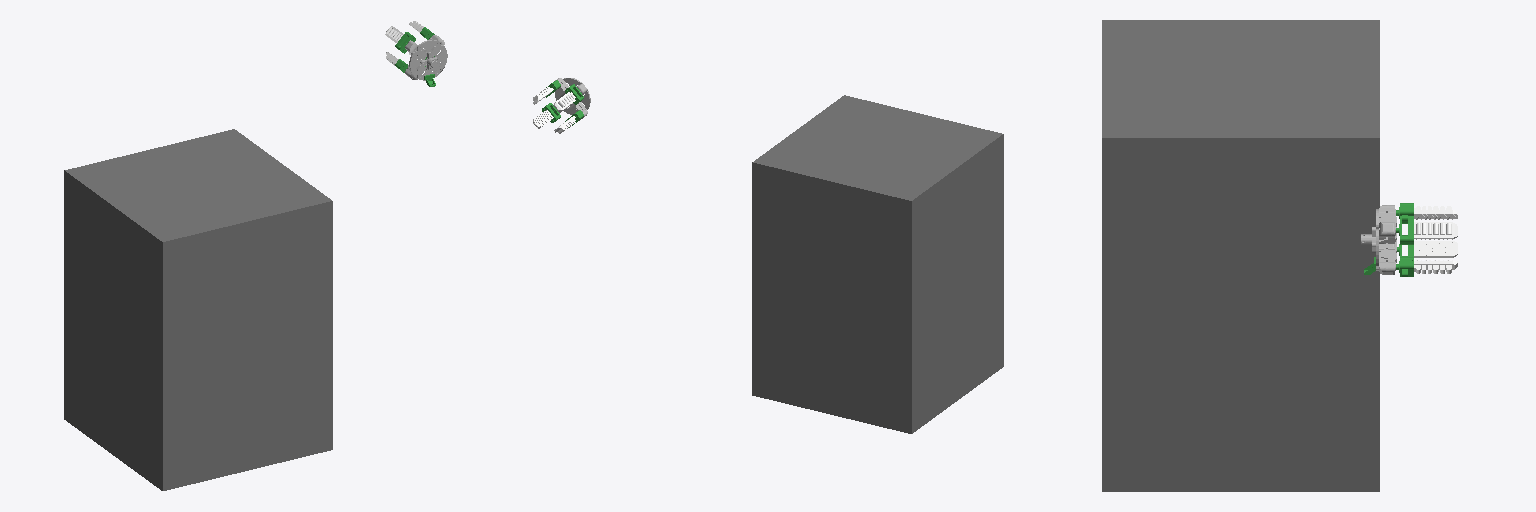
--- Render facts (derived) ---
3 views of the same robot in one strip: view 1: azimuth 30°, elevation 25°; view 2: azimuth 150°, elevation 25°; view 3: azimuth 270°, elevation 25° (orthographic).
Robot: ur5e_gripper — 33 links, 32 joints (6 revolute, 8 continuous, 18 fixed); root link world; default pose: all joints at 0.
Visible links, largest first — view 1: mount, gripper_base_link; view 2: mount, gripper_base_link; view 3: mount, gripper_base_link, finger_4_link, finger_2_link.
Link boxes in pixels (box(x1,y1,x2,y2)): mount: box(64, 129, 332, 490); gripper_base_link: box(405, 35, 447, 80); mount: box(752, 95, 1003, 433); gripper_base_link: box(553, 78, 590, 120); mount: box(1102, 20, 1379, 491); gripper_base_link: box(1361, 205, 1396, 274); finger_4_link: box(1414, 222, 1457, 239); finger_2_link: box(1414, 241, 1457, 257).
Bounding box of the posed robot: 1.13 × 0.6398 × 0.8225 m (x, y, z).
10 mesh visuals loaded from 18 distinct referenced files (10 binary STL); not drawn: 8 (reference not matched to a file when rendering).

The robot description file, URDF, robot "ur5e_gripper":
<?xml version="1.0" ?>
<!-- =================================================================================== -->
<!-- |    This document was autogenerated by xacro from [local-path]/2023_robosoft_ws/src/ur5e_description/urdf/ur5e_softgripper.urdf.xacro | -->
<!-- |    EDITING THIS FILE BY HAND IS NOT RECOMMENDED                                 | -->
<!-- =================================================================================== -->
<robot name="ur5e_gripper">
    <gazebo reference="mount">
        <mu1>0.2</mu1>
        <mu2>0.2</mu2>
        <material>Gazebo/Orange</material>
        <plugin name="gazebo_ros_control">
            <robotNamespace>/</robotNamespace>
        </plugin>
    </gazebo>
    <gazebo reference="gripper_base_link">
        <mu1>0.9</mu1>
        <mu2>0.9</mu2>
        <material>Gazebo/FlatBlack</material>
    </gazebo>
    <gazebo reference="gripper_camera_link">
        <mu1>0.9</mu1>
        <mu2>0.9</mu2>
        <material>Gazebo/FlatBlack</material>
    </gazebo>
    <gazebo reference="servo_1_link">
        <mu1>0.9</mu1>
        <mu2>0.9</mu2>
        <material>Gazebo/Green</material>
    </gazebo>
    <gazebo reference="servo_2_link">
        <mu1>0.9</mu1>
        <mu2>0.9</mu2>
        <material>Gazebo/Green</material>
    </gazebo>
    <gazebo reference="servo_3_link">
        <mu1>0.9</mu1>
        <mu2>0.9</mu2>
        <material>Gazebo/Green</material>
    </gazebo>
    <gazebo reference="servo_4_link">
        <mu1>0.9</mu1>
        <mu2>0.9</mu2>
        <material>Gazebo/Green</material>
    </gazebo>
    <!-- Gazebo grasping plugin -->
    <gazebo>
        <plugin filename="libgazebo_grasp_fix.so" name="gazebo_grasp_fix">
            <arm>
                <arm_name>manipulator</arm_name>
                <palm_link>wrist_3_link</palm_link>
                <gripper_link>finger_1_link</gripper_link>
                <gripper_link>finger_2_link</gripper_link>
                <gripper_link>finger_3_link</gripper_link>
                <gripper_link>finger_4_link</gripper_link>
            </arm>
            <forces_angle_tolerance>100</forces_angle_tolerance>
            <update_rate>4</update_rate>
            <grip_count_threshold>4</grip_count_threshold>
            <max_grip_count>8</max_grip_count>
            <release_tolerance>0.005</release_tolerance>
            <disable_collisions_on_attach>false</disable_collisions_on_attach>
            <contact_topic>__default_topic__</contact_topic>
        </plugin>
    </gazebo>
    <material name="Gray">
        <color rgba="0.5 0.5 0.5 0" />
    </material>
    <material name="FlatBlack">
        <color rgba="0 0 0 1" />
    </material>
    <material name="Green">
        <color rgba="0.286274509803922 0.662745098039216 0.329411764705882 1" />
    </material>
    <link name="world" />
    <link name="mount">
        <inertial>
            <origin rpy="0 0 0" xyz="0 0 0.35" />
            <mass value="20" />
            <inertia ixx="200" ixy="200" ixz="200" iyy="200" iyz="200" izz="200" />
        </inertial>
        <visual>
            <origin rpy="0 0 0" xyz="0 0 0.35" />
            <geometry>
                <box size="0.5 0.5 0.7" />
            </geometry>
            <material name="Gray" />
        </visual>
        <collision>
            <origin rpy="0 0 0" xyz="0 0 0.35" />
            <geometry>
                <box size="0.5 0.5 0.7" />
            </geometry>
        </collision>
    </link>
    <joint name="world_joint" type="fixed">
        <parent link="world" />
        <child link="mount" />
        <origin rpy="0 0 0" xyz="0 0 0" />
    </joint>
    <!--
    Base UR robot series xacro macro.

    NOTE: this is NOT a URDF. It cannot directly be loaded by consumers
    expecting a flattened '.urdf' file. See the top-level '.xacro' for that
    (but note: that .xacro must still be processed by the xacro command).

    For use in '.launch' files: use one of the 'load_urX.launch' convenience
    launch files.

    This file models the base kinematic chain of a UR robot, which then gets
    parameterised by various configuration files to convert it into a UR3(e),
    UR5(e), UR10(e) or UR16e.

    NOTE: the default kinematic parameters (ie: link lengths, frame locations,
    offets, etc) do not correspond to any particular robot. They are defaults
    only. There WILL be non-zero offsets between the Forward Kinematics results
    in TF (ie: robot_state_publisher) and the values reported by the Teach
    Pendant.

    For accurate (and robot-specific) transforms, the 'kinematics_parameters_file'
    parameter MUST point to a .yaml file containing the appropriate values for
    the targetted robot.

    If using the UniversalRobots/Universal_Robots_ROS_Driver, follow the steps
    described in the readme of that repository to extract the kinematic
    calibration from the controller and generate the required .yaml file.

    Main author of the migration to yaml configs: Ludovic Delval.

    Contributors to previous versions (in no particular order):

     - Felix Messmer
     - Kelsey Hawkins
     - Wim Meeussen
     - Shaun Edwards
     - Nadia Hammoudeh Garcia
     - Dave Hershberger
     - G. vd. Hoorn
     - Philip Long
     - Dave Coleman
     - Miguel Prada
     - Mathias Luedtke
     - Marcel Schnirring
     - Felix von Drigalski
     - Felix Exner
     - Jimmy Da Silva
     - Ajit Krisshna N L
     - Muhammad Asif Rana
  -->
    <!--
    NOTE: the macro defined in this file is NOT part of the public API of this
          package. Users CANNOT rely on this file being available, or stored in
          this location. Nor can they rely on the existence of the macro.
  -->
    <transmission name="shoulder_pan_trans">
        <type>transmission_interface/SimpleTransmission</type>
        <joint name="shoulder_pan_joint">
            <hardwareInterface>hardware_interface/PositionJointInterface</hardwareInterface>
        </joint>
        <actuator name="shoulder_pan_motor">
            <mechanicalReduction>1</mechanicalReduction>
            <hardwareInterface>hardware_interface/PositionJointInterface</hardwareInterface>
        </actuator>
    </transmission>
    <transmission name="shoulder_lift_trans">
        <type>transmission_interface/SimpleTransmission</type>
        <joint name="shoulder_lift_joint">
            <hardwareInterface>hardware_interface/PositionJointInterface</hardwareInterface>
        </joint>
        <actuator name="shoulder_lift_motor">
            <mechanicalReduction>1</mechanicalReduction>
            <hardwareInterface>hardware_interface/PositionJointInterface</hardwareInterface>
        </actuator>
    </transmission>
    <transmission name="elbow_trans">
        <type>transmission_interface/SimpleTransmission</type>
        <joint name="elbow_joint">
            <hardwareInterface>hardware_interface/PositionJointInterface</hardwareInterface>
        </joint>
        <actuator name="elbow_motor">
            <mechanicalReduction>1</mechanicalReduction>
            <hardwareInterface>hardware_interface/PositionJointInterface</hardwareInterface>
        </actuator>
    </transmission>
    <transmission name="wrist_1_trans">
        <type>transmission_interface/SimpleTransmission</type>
        <joint name="wrist_1_joint">
            <hardwareInterface>hardware_interface/PositionJointInterface</hardwareInterface>
        </joint>
        <actuator name="wrist_1_motor">
            <mechanicalReduction>1</mechanicalReduction>
            <hardwareInterface>hardware_interface/PositionJointInterface</hardwareInterface>
        </actuator>
    </transmission>
    <transmission name="wrist_2_trans">
        <type>transmission_interface/SimpleTransmission</type>
        <joint name="wrist_2_joint">
            <hardwareInterface>hardware_interface/PositionJointInterface</hardwareInterface>
        </joint>
        <actuator name="wrist_2_motor">
            <mechanicalReduction>1</mechanicalReduction>
            <hardwareInterface>hardware_interface/PositionJointInterface</hardwareInterface>
        </actuator>
    </transmission>
    <transmission name="wrist_3_trans">
        <type>transmission_interface/SimpleTransmission</type>
        <joint name="wrist_3_joint">
            <hardwareInterface>hardware_interface/PositionJointInterface</hardwareInterface>
        </joint>
        <actuator name="wrist_3_motor">
            <mechanicalReduction>1</mechanicalReduction>
            <hardwareInterface>hardware_interface/PositionJointInterface</hardwareInterface>
        </actuator>
    </transmission>
    <!-- links: main serial chain -->
    <link name="base_link" />
    <link name="base_link_inertia">
        <visual>
            <origin rpy="0 0 3.141592653589793" xyz="0 0 0" />
            <geometry>
                <mesh filename="package://ur_description/meshes/ur5e/visual/base.dae" />
            </geometry>
            <material name="LightGrey">
                <color rgba="0.7 0.7 0.7 1.0" />
            </material>
        </visual>
        <collision>
            <origin rpy="0 0 3.141592653589793" xyz="0 0 0" />
            <geometry>
                <mesh filename="package://ur_description/meshes/ur5e/collision/base.stl" />
            </geometry>
        </collision>
        <inertial>
            <mass value="4.0" />
            <origin rpy="0 0 0" xyz="0 0 0" />
            <inertia ixx="0.00443333156" ixy="0.0" ixz="0.0" iyy="0.00443333156" iyz="0.0" izz="0.0072" />
        </inertial>
    </link>
    <link name="shoulder_link">
        <visual>
            <origin rpy="0 0 3.141592653589793" xyz="0 0 0" />
            <geometry>
                <mesh filename="package://ur_description/meshes/ur5e/visual/shoulder.dae" />
            </geometry>
            <material name="LightGrey">
                <color rgba="0.7 0.7 0.7 1.0" />
            </material>
        </visual>
        <collision>
            <origin rpy="0 0 3.141592653589793" xyz="0 0 0" />
            <geometry>
                <mesh filename="package://ur_description/meshes/ur5e/collision/shoulder.stl" />
            </geometry>
        </collision>
        <inertial>
            <mass value="3.7" />
            <origin rpy="0 0 0" xyz="0 0 0" />
            <inertia ixx="0.010267495893" ixy="0.0" ixz="0.0" iyy="0.010267495893" iyz="0.0" izz="0.00666" />
        </inertial>
    </link>
    <link name="upper_arm_link">
        <visual>
            <origin rpy="1.5707963267948966 0 -1.5707963267948966" xyz="0 0 0.138" />
            <geometry>
                <mesh filename="package://ur_description/meshes/ur5e/visual/upperarm.dae" />
            </geometry>
            <material name="LightGrey">
                <color rgba="0.7 0.7 0.7 1.0" />
            </material>
        </visual>
        <collision>
            <origin rpy="1.5707963267948966 0 -1.5707963267948966" xyz="0 0 0.138" />
            <geometry>
                <mesh filename="package://ur_description/meshes/ur5e/collision/upperarm.stl" />
            </geometry>
        </collision>
        <inertial>
            <mass value="8.393" />
            <origin rpy="0 1.5707963267948966 0" xyz="-0.2125 0.0 0.138" />
            <inertia ixx="0.1338857818623325" ixy="0.0" ixz="0.0" iyy="0.1338857818623325" iyz="0.0" izz="0.0151074" />
        </inertial>
    </link>
    <link name="forearm_link">
        <visual>
            <origin rpy="1.5707963267948966 0 -1.5707963267948966" xyz="0 0 0.007" />
            <geometry>
                <mesh filename="package://ur_description/meshes/ur5e/visual/forearm.dae" />
            </geometry>
            <material name="LightGrey">
                <color rgba="0.7 0.7 0.7 1.0" />
            </material>
        </visual>
        <collision>
            <origin rpy="1.5707963267948966 0 -1.5707963267948966" xyz="0 0 0.007" />
            <geometry>
                <mesh filename="package://ur_description/meshes/ur5e/collision/forearm.stl" />
            </geometry>
        </collision>
        <inertial>
            <mass value="2.275" />
            <origin rpy="0 1.5707963267948966 0" xyz="-0.1961 0.0 0.007" />
            <inertia ixx="0.031209355099586295" ixy="0.0" ixz="0.0" iyy="0.031209355099586295" iyz="0.0" izz="0.004095" />
        </inertial>
    </link>
    <link name="wrist_1_link">
        <visual>
            <!-- TODO: Move this to a parameter -->
            <origin rpy="1.5707963267948966 0 0" xyz="0 0 -0.127" />
            <geometry>
                <mesh filename="package://ur_description/meshes/ur5e/visual/wrist1.dae" />
            </geometry>
            <material name="LightGrey">
                <color rgba="0.7 0.7 0.7 1.0" />
            </material>
        </visual>
        <collision>
            <origin rpy="1.5707963267948966 0 0" xyz="0 0 -0.127" />
            <geometry>
                <mesh filename="package://ur_description/meshes/ur5e/collision/wrist1.stl" />
            </geometry>
        </collision>
        <inertial>
            <mass value="1.219" />
            <origin rpy="0 0 0" xyz="0 0 0" />
            <inertia ixx="0.0025598989760400002" ixy="0.0" ixz="0.0" iyy="0.0025598989760400002" iyz="0.0" izz="0.0021942" />
        </inertial>
    </link>
    <link name="wrist_2_link">
        <visual>
            <origin rpy="0 0 0" xyz="0 0 -0.0997" />
            <geometry>
                <mesh filename="package://ur_description/meshes/ur5e/visual/wrist2.dae" />
            </geometry>
            <material name="LightGrey">
                <color rgba="0.7 0.7 0.7 1.0" />
            </material>
        </visual>
        <collision>
            <origin rpy="0 0 0" xyz="0 0 -0.0997" />
            <geometry>
                <mesh filename="package://ur_description/meshes/ur5e/collision/wrist2.stl" />
            </geometry>
        </collision>
        <inertial>
            <mass value="1.219" />
            <origin rpy="0 0 0" xyz="0 0 0" />
            <inertia ixx="0.0025598989760400002" ixy="0.0" ixz="0.0" iyy="0.0025598989760400002" iyz="0.0" izz="0.0021942" />
        </inertial>
    </link>
    <link name="wrist_3_link">
        <visual>
            <origin rpy="1.5707963267948966 0 0" xyz="0 0 -0.0989" />
            <geometry>
                <mesh filename="package://ur_description/meshes/ur5e/visual/wrist3.dae" />
            </geometry>
            <material name="LightGrey">
                <color rgba="0.7 0.7 0.7 1.0" />
            </material>
        </visual>
        <collision>
            <origin rpy="1.5707963267948966 0 0" xyz="0 0 -0.0989" />
            <geometry>
                <mesh filename="package://ur_description/meshes/ur5e/collision/wrist3.stl" />
            </geometry>
        </collision>
        <inertial>
            <mass value="0.1879" />
            <origin rpy="0 0 0" xyz="0.0 0.0 -0.0229" />
            <inertia ixx="9.890410052167731e-05" ixy="0.0" ixz="0.0" iyy="9.890410052167731e-05" iyz="0.0" izz="0.0001321171875" />
        </inertial>
    </link>
    <!-- joints: main serial chain -->
    <joint name="base_link-base_link_inertia" type="fixed">
        <parent link="base_link" />
        <child link="base_link_inertia" />
        <!-- 'base_link' is REP-103 aligned (so X+ forward), while the internal
           frames of the robot/controller have X+ pointing backwards.
           Use the joint between 'base_link' and 'base_link_inertia' (a dummy
           link/frame) to introduce the necessary rotation over Z (of pi rad).
      -->
        <origin rpy="0 0 3.141592653589793" xyz="0 0 0" />
    </joint>
    <joint name="shoulder_pan_joint" type="revolute">
        <parent link="base_link_inertia" />
        <child link="shoulder_link" />
        <origin rpy="0 0 0" xyz="0 0 0.1625" />
        <axis xyz="0 0 1" />
        <limit effort="150.0" lower="-6.283185307179586" upper="6.283185307179586" velocity="3.141592653589793" />
        <dynamics damping="0" friction="0" />
    </joint>
    <joint name="shoulder_lift_joint" type="revolute">
        <parent link="shoulder_link" />
        <child link="upper_arm_link" />
        <origin rpy="1.570796327 0 0" xyz="0 0 0" />
        <axis xyz="0 0 1" />
        <limit effort="150.0" lower="-6.283185307179586" upper="6.283185307179586" velocity="3.141592653589793" />
        <dynamics damping="0" friction="0" />
    </joint>
    <joint name="elbow_joint" type="revolute">
        <parent link="upper_arm_link" />
        <child link="forearm_link" />
        <origin rpy="0 0 0" xyz="-0.425 0 0" />
        <axis xyz="0 0 1" />
        <limit effort="150.0" lower="-3.141592653589793" upper="3.141592653589793" velocity="3.141592653589793" />
        <dynamics damping="0" friction="0" />
    </joint>
    <joint name="wrist_1_joint" type="revolute">
        <parent link="forearm_link" />
        <child link="wrist_1_link" />
        <origin rpy="0 0 0" xyz="-0.3922 0 0.1333" />
        <axis xyz="0 0 1" />
        <limit effort="28.0" lower="-6.283185307179586" upper="6.283185307179586" velocity="3.141592653589793" />
        <dynamics damping="0" friction="0" />
    </joint>
    <joint name="wrist_2_joint" type="revolute">
        <parent link="wrist_1_link" />
        <child link="wrist_2_link" />
        <origin rpy="1.570796327 0 0" xyz="0 -0.0997 -2.044881182297852e-11" />
        <axis xyz="0 0 1" />
        <limit effort="28.0" lower="-6.283185307179586" upper="6.283185307179586" velocity="3.141592653589793" />
        <dynamics damping="0" friction="0" />
    </joint>
    <joint name="wrist_3_joint" type="revolute">
        <parent link="wrist_2_link" />
        <child link="wrist_3_link" />
        <origin rpy="1.570796326589793 3.141592653589793 3.141592653589793" xyz="0 0.0996 -2.042830148012698e-11" />
        <axis xyz="0 0 1" />
        <limit effort="28.0" lower="-6.283185307179586" upper="6.283185307179586" velocity="3.141592653589793" />
        <dynamics damping="0" friction="0" />
    </joint>
    <!-- ROS-Industrial 'base' frame: base_link to UR 'Base' Coordinates transform -->
    <link name="base" />
    <joint name="base_link-base_fixed_joint" type="fixed">
        <!-- Note the rotation over Z of pi radians: as base_link is REP-103
           aligned (ie: has X+ forward, Y+ left and Z+ up), this is needed
           to correctly align 'base' with the 'Base' coordinate system of
           the UR controller.
      -->
        <origin rpy="0 0 3.141592653589793" xyz="0 0 0" />
        <parent link="base_link" />
        <child link="base" />
    </joint>
    <!-- ROS-Industrial 'flange' frame: attachment point for EEF models -->
    <link name="flange" />
    <joint name="wrist_3-flange" type="fixed">
        <parent link="wrist_3_link" />
        <child link="flange" />
        <origin rpy="0 -1.5707963267948966 -1.5707963267948966" xyz="0 0 0" />
    </joint>
    <!-- ROS-Industrial 'tool0' frame: all-zeros tool frame -->
    <link name="tool0" />
    <joint name="flange-tool0" type="fixed">
        <!-- default toolframe: X+ left, Y+ up, Z+ front -->
        <origin rpy="1.5707963267948966 0 1.5707963267948966" xyz="0 0 0" />
        <parent link="flange" />
        <child link="tool0" />
    </joint>
    <transmission name="finger_1_trans">
        <type>transmission_interface/SimpleTransmission</type>
        <joint name="finger_1_joint">
            <hardwareInterface>hardware_interface/EffortJointInterface</hardwareInterface>
        </joint>
        <actuator name="finger_1_motor">
            <mechanicalReduction>1</mechanicalReduction>
            <hardwareInterface>hardware_interface/EffortJointInterface</hardwareInterface>
        </actuator>
    </transmission>
    <transmission name="finger_2_trans">
        <type>transmission_interface/SimpleTransmission</type>
        <joint name="finger_2_joint">
            <hardwareInterface>hardware_interface/EffortJointInterface</hardwareInterface>
        </joint>
        <actuator name="finger_2_motor">
            <mechanicalReduction>1</mechanicalReduction>
            <hardwareInterface>hardware_interface/EffortJointInterface</hardwareInterface>
        </actuator>
    </transmission>
    <transmission name="finger_3_trans">
        <type>transmission_interface/SimpleTransmission</type>
        <joint name="finger_3_joint">
            <hardwareInterface>hardware_interface/EffortJointInterface</hardwareInterface>
        </joint>
        <actuator name="finger_3_motor">
            <mechanicalReduction>1</mechanicalReduction>
            <hardwareInterface>hardware_interface/EffortJointInterface</hardwareInterface>
        </actuator>
    </transmission>
    <transmission name="finger_4_trans">
        <type>transmission_interface/SimpleTransmission</type>
        <joint name="finger_4_joint">
            <hardwareInterface>hardware_interface/EffortJointInterface</hardwareInterface>
        </joint>
        <actuator name="finger_4_motor">
            <mechanicalReduction>1</mechanicalReduction>
            <hardwareInterface>hardware_interface/EffortJointInterface</hardwareInterface>
        </actuator>
    </transmission>
    <transmission name="servo_1_trans">
        <type>transmission_interface/SimpleTransmission</type>
        <joint name="servo_1_joint">
            <hardwareInterface>hardware_interface/PositionJointInterface</hardwareInterface>
        </joint>
        <actuator name="servo_1_motor">
            <mechanicalReduction>1</mechanicalReduction>
            <hardwareInterface>hardware_interface/PositionJointInterface</hardwareInterface>
        </actuator>
    </transmission>
    <transmission name="servo_2_trans">
        <type>transmission_interface/SimpleTransmission</type>
        <joint name="servo_2_joint">
            <hardwareInterface>hardware_interface/PositionJointInterface</hardwareInterface>
        </joint>
        <actuator name="servo_2_motor">
            <mechanicalReduction>1</mechanicalReduction>
            <hardwareInterface>hardware_interface/PositionJointInterface</hardwareInterface>
        </actuator>
    </transmission>
    <transmission name="servo_3_trans">
        <type>transmission_interface/SimpleTransmission</type>
        <joint name="servo_3_joint">
            <hardwareInterface>hardware_interface/PositionJointInterface</hardwareInterface>
        </joint>
        <actuator name="servo_3_motor">
            <mechanicalReduction>1</mechanicalReduction>
            <hardwareInterface>hardware_interface/PositionJointInterface</hardwareInterface>
        </actuator>
    </transmission>
    <transmission name="servo_4_trans">
        <type>transmission_interface/SimpleTransmission</type>
        <joint name="servo_4_joint">
            <hardwareInterface>hardware_interface/PositionJointInterface</hardwareInterface>
        </joint>
        <actuator name="servo_4_motor">
            <mechanicalReduction>1</mechanicalReduction>
            <hardwareInterface>hardware_interface/PositionJointInterface</hardwareInterface>
        </actuator>
    </transmission>
    <link name="gripper_base_link">
        <inertial>
            <origin rpy="0 0 0" xyz="-1.85575844109664E-05 -2.02074329491708E-11 -0.0430630181169552" />
            <mass value="0.195022469194341" />
            <inertia ixx="5.85349167377907E-05" ixy="-4.1376139846153E-14" ixz="6.75840623350753E-13" iyy="5.83796571309473E-05" iyz="-3.3170150457181E-13" izz="8.86544614662443E-05" />
        </inertial>
        <visual>
            <origin rpy="0 0 0" xyz="0 0 0" />
            <geometry>
                <mesh filename="package://soft_gripper/meshes/gripper_base_link.STL" />
            </geometry>
            <material name="">
                <color rgba="0.752941176470588 0.752941176470588 0.752941176470588 1" />
            </material>
        </visual>
        <collision>
            <origin rpy="0 0 0" xyz="0 0 0" />
            <geometry>
                <mesh filename="package://soft_gripper/meshes/gripper_base_link.STL" />
            </geometry>
        </collision>
    </link>
    <link name="servo_1_link">
        <inertial>
            <origin rpy="0 0 0" xyz="-7.80809418574821E-05 -6.52256026967279E-16 0.0135156856354061" />
            <mass value="0.0191811166187774" />
            <inertia ixx="5.06418904282938E-06" ixy="-5.55865371635635E-22" ixz="-3.87601343120261E-09" iyy="1.05866143969564E-06" iyz="1.24826492322507E-22" izz="5.60048102185578E-06" />
        </inertial>
        <visual>
            <origin rpy="0 0 0" xyz="0 0 0" />
            <geometry>
                <mesh filename="package://soft_gripper/meshes/servo_1_link.STL" />
            </geometry>
            <material name="">
                <color rgba="0.286274509803922 0.662745098039216 0.329411764705882 1" />
            </material>
        </visual>
        <collision>
            <origin rpy="0 0 0" xyz="0 0 0" />
            <geometry>
                <mesh filename="package://soft_gripper/meshes/servo_1_link.STL" />
            </geometry>
        </collision>
    </link>
    <joint name="servo_1_joint" type="continuous">
        <origin rpy="0 0 0.7854" xyz="-0.036416 -0.036416 -0.09585" />
        <parent link="gripper_base_link" />
        <child link="servo_1_link" />
        <axis xyz="0 0 1" />
    </joint>
    <link name="finger_1_link">
        <inertial>
            <origin rpy="0 0 0" xyz="-0.00181939263428166 -0.000200005828069644 -0.0365167897582486" />
            <mass value="0.0220003142662293" />
            <inertia ixx="1.38368470706093E-05" ixy="-2.31040767369032E-13" ixz="3.6298942880518E-09" iyy="1.2460107150161E-05" iyz="4.3561885401316E-12" izz="1.68325523375169E-06" />
        </inertial>
        <visual>
            <origin rpy="0 0 0" xyz="0 0 0" />
            <geometry>
                <mesh filename="package://soft_gripper/meshes/finger_1_link.STL" />
            </geometry>
            <material name="">
                <color rgba="1 1 1 1" />
            </material>
        </visual>
        <collision>
            <origin rpy="0 0 0" xyz="0 0 0" />
            <geometry>
                <mesh filename="package://soft_gripper/meshes/finger_1_link.STL" />
            </geometry>
        </collision>
    </link>
    <joint name="finger_1_joint" type="continuous">
        <origin rpy="0 0 0" xyz="0.003 0 0.003" />
        <parent link="servo_1_link" />
        <child link="finger_1_link" />
        <axis xyz="0 1 0" />
    </joint>
    <link name="servo_2_link">
        <inertial>
            <origin rpy="0 0 0" xyz="-7.80809418574335E-05 -5.13478148889135E-16 0.0135156856354062" />
            <mass value="0.0191811166187774" />
            <inertia ixx="5.06418904282938E-06" ixy="-5.29395592033938E-23" ixz="-3.87601343120264E-09" iyy="1.05866143969564E-06" iyz="4.14233943331365E-22" izz="5.60048102185578E-06" />
        </inertial>
        <visual>
            <origin rpy="0 0 0" xyz="0 0 0" />
            <geometry>
                <mesh filename="package://soft_gripper/meshes/servo_2_link.STL" />
            </geometry>
            <material name="">
                <color rgba="0.286274509803922 0.662745098039216 0.329411764705882 1" />
            </material>
        </visual>
        <collision>
            <origin rpy="0 0 0" xyz="0 0 0" />
            <geometry>
                <mesh filename="package://soft_gripper/meshes/servo_2_link.STL" />
            </geometry>
        </collision>
    </link>
    <joint name="servo_2_joint" type="continuous">
        <origin rpy="0 0 2.3562" xyz="0.036416 -0.036416 -0.09585" />
        <parent link="gripper_base_link" />
        <child link="servo_2_link" />
        <axis xyz="0 0 1" />
    </joint>
    <link name="finger_2_link">
        <inertial>
            <origin rpy="0 0 0" xyz="-0.00181939263428142 -0.000200005828069547 -0.0365167897582478" />
            <mass value="0.0220003142662293" />
            <inertia ixx="1.38368470706093E-05" ixy="-2.31040767369032E-13" ixz="3.62989428805088E-09" iyy="1.2460107150161E-05" iyz="4.35618854092809E-12" izz="1.68325523375169E-06" />
        </inertial>
        <visual>
            <origin rpy="0 0 0" xyz="0 0 0" />
            <geometry>
                <mesh filename="package://soft_gripper/meshes/finger_2_link.STL" />
            </geometry>
            <material name="">
                <color rgba="1 1 1 1" />
            </material>
        </visual>
        <collision>
            <origin rpy="0 0 0" xyz="0 0 0" />
            <geometry>
                <mesh filename="package://soft_gripper/meshes/finger_2_link.STL" />
            </geometry>
        </collision>
    </link>
    <joint name="finger_2_joint" type="continuous">
        <origin rpy="0 0 0" xyz="0.003 0 0.003" />
        <parent link="servo_2_link" />
        <child link="finger_2_link" />
        <axis xyz="0 1 0" />
    </joint>
    <link name="servo_3_link">
        <inertial>
            <origin rpy="0 0 0" xyz="-7.80809418574613E-05 -6.93889390390723E-16 0.0135156856354061" />
            <mass value="0.0191811166187774" />
            <inertia ixx="5.06418904282938E-06" ixy="4.49986253228847E-22" ixz="-3.87601343120259E-09" iyy="1.05866143969564E-06" iyz="-6.29924271693896E-24" izz="5.60048102185578E-06" />
        </inertial>
        <visual>
            <origin rpy="0 0 0" xyz="0 0 0" />
            <geometry>
                <mesh filename="package://soft_gripper/meshes/servo_3_link.STL" />
            </geometry>
            <material name="">
                <color rgba="0.286274509803922 0.662745098039216 0.329411764705882 1" />
            </material>
        </visual>
        <collision>
            <origin rpy="0 0 0" xyz="0 0 0" />
            <geometry>
                <mesh filename="package://soft_gripper/meshes/servo_3_link.STL" />
            </geometry>
        </collision>
    </link>
    <joint name="servo_3_joint" type="continuous">
        <origin rpy="0 0 -2.3562" xyz="0.036416 0.036416 -0.09585" />
        <parent link="gripper_base_link" />
        <child link="servo_3_link" />
        <axis xyz="0 0 -1" />
    </joint>
    <link name="finger_3_link">
        <inertial>
            <origin rpy="0 0 0" xyz="-0.00181939263428166 0.000199994171930354 -0.0365167897582486" />
            <mass value="0.0220003142662293" />
            <inertia ixx="1.38368470706093E-05" ixy="-2.31040765674966E-13" ixz="3.62989428805188E-09" iyy="1.2460107150161E-05" iyz="4.35618853794185E-12" izz="1.68325523375169E-06" />
        </inertial>
        <visual>
            <origin rpy="0 0 0" xyz="0 0 0" />
            <geometry>
                <mesh filename="package://soft_gripper/meshes/finger_3_link.STL" />
            </geometry>
            <material name="">
                <color rgba="1 1 1 1" />
            </material>
        </visual>
        <collision>
            <origin rpy="0 0 0" xyz="0 0 0" />
            <geometry>
                <mesh filename="package://soft_gripper/meshes/finger_3_link.STL" />
            </geometry>
        </collision>
    </link>
    <joint name="finger_3_joint" type="continuous">
        <origin rpy="0 0 0" xyz="0.003 0 0.003" />
        <parent link="servo_3_link" />
        <child link="finger_3_link" />
        <axis xyz="0 1 0" />
    </joint>
    <link name="servo_4_link">
        <inertial>
            <origin rpy="0 0 0" xyz="-7.80809418574752E-05 -6.66133814775094E-16 0.0135156856354061" />
            <mass value="0.0191811166187774" />
            <inertia ixx="5.06418904282939E-06" ixy="2.91167575618666E-22" ixz="-3.87601343120268E-09" iyy="1.05866143969564E-06" iyz="4.92404964508493E-24" izz="5.60048102185579E-06" />
        </inertial>
        <visual>
            <origin rpy="0 0 0" xyz="0 0 0" />
            <geometry>
                <mesh filename="package://soft_gripper/meshes/servo_4_link.STL" />
            </geometry>
            <material name="">
                <color rgba="0.286274509803922 0.662745098039216 0.329411764705882 1" />
            </material>
        </visual>
        <collision>
            <origin rpy="0 0 0" xyz="0 0 0" />
            <geometry>
                <mesh filename="package://soft_gripper/meshes/servo_4_link.STL" />
            </geometry>
        </collision>
    </link>
    <joint name="servo_4_joint" type="continuous">
        <origin rpy="0 0 -0.7854" xyz="-0.036416 0.036416 -0.09585" />
        <parent link="gripper_base_link" />
        <child link="servo_4_link" />
        <axis xyz="0 0 1" />
    </joint>
    <link name="finger_4_link">
        <inertial>
            <origin rpy="0 0 0" xyz="-0.0018193926342816 0.000199994171930479 -0.0365167897582486" />
            <mass value="0.0220003142662293" />
            <inertia ixx="1.38368470706093E-05" ixy="-2.31040765674966E-13" ixz="3.6298942880532E-09" iyy="1.2460107150161E-05" iyz="4.35618853895458E-12" izz="1.68325523375169E-06" />
        </inertial>
        <visual>
            <origin rpy="0 0 0" xyz="0 0 0" />
            <geometry>
                <mesh filename="package://soft_gripper/meshes/finger_4_link.STL" />
            </geometry>
            <material name="">
                <color rgba="1 1 1 1" />
            </material>
        </visual>
        <collision>
            <origin rpy="0 0 0" xyz="0 0 0" />
            <geometry>
                <mesh filename="package://soft_gripper/meshes/finger_4_link.STL" />
            </geometry>
        </collision>
    </link>
    <joint name="finger_4_joint" type="continuous">
        <origin rpy="0 0 0" xyz="0.003 0 0.003" />
        <parent link="servo_4_link" />
        <child link="finger_4_link" />
        <axis xyz="0 1 0" />
    </joint>
    <link name="gripper_camera_link">
        <inertial>
            <origin rpy="0 0 0" xyz="-0.0120198675295614 -6.93889390390723E-18 -0.0102208730539427" />
            <mass value="0.00332779705110445" />
            <inertia ixx="2.68062229632537E-07" ixy="3.97046694025453E-23" ixz="-1.11856321363339E-07" iyy="3.05805572181698E-07" iyz="1.48417900009482E-23" izz="3.59641180784838E-07" />
        </inertial>
        <visual>
            <origin rpy="0 0 0" xyz="0 0 0" />
            <geometry>
                <mesh filename="package://soft_gripper/meshes/camera_link.STL" />
            </geometry>
            <material name="">
                <color rgba="0.286274509803922 0.662745098039216 0.329411764705882 1" />
            </material>
        </visual>
        <collision>
            <origin rpy="0 0 0" xyz="0 0 0" />
            <geometry>
                <mesh filename="package://soft_gripper/meshes/camera_link.STL" />
            </geometry>
        </collision>
    </link>
    <joint name="gripper_camera_joint" type="fixed">
        <origin rpy="0 0 0" xyz="0.065 0 -0.011475" />
        <parent link="gripper_base_link" />
        <child link="gripper_camera_link" />
        <axis xyz="0 0 0" />
    </joint>
    <gazebo>
        <plugin filename="libgazebo_ros_control.so" name="ros_control">
            <!-- <robotNamespace>/myworkcell</robotNamespace> -->
        </plugin>
    </gazebo>
    <joint name="base_joint" type="fixed">
        <parent link="mount" />
        <child link="base_link" />
        <origin rpy="0.0 0.0 0.0" xyz="0 0 0.7" />
    </joint>
    <joint name="gripper_joint" type="fixed">
        <parent link="tool0" />
        <child link="gripper_base_link" />
        <origin rpy="0 3.141592653589793 1.5707963267948966" xyz="0 0 -0.018" />
    </joint>
    <material name="aluminum">
        <color rgba="0.5 0.5 0.5 1" />
    </material>
    <material name="plastic">
        <color rgba="0.1 0.1 0.1 1" />
    </material>
    <!-- camera body, with origin at bottom screw mount -->
    <joint name="camera_joint" type="fixed">
        <origin rpy="0 1.5707963267948966 0" xyz="0 0 0" />
        <parent link="gripper_camera_link" />
        <child link="camera_bottom_screw_frame" />
    </joint>
    <link name="camera_bottom_screw_frame" />
    <joint name="camera_link_joint" type="fixed">
        <origin rpy="0 0 0" xyz="0 0.02 0.0115" />
        <parent link="camera_bottom_screw_frame" />
        <child link="camera_link" />
    </joint>
    <link name="camera_link">
        <visual>
            <origin rpy="1.5707963267948966 0 1.5707963267948966" xyz="0.00987 -0.02 0" />
            <geometry>
                <mesh filename="package://realsense2_description/meshes/d415.stl" />
            </geometry>
            <material name="aluminum" />
        </visual>
        <collision>
            <origin rpy="0 0 0" xyz="0 -0.02 0" />
            <geometry>
                <box size="0.02005 0.099 0.023" />
            </geometry>
        </collision>
        <inertial>
            <mass value="0.072" />
            <!-- The following are not reliable values, and should not be used for modeling -->
            <origin xyz="0 0 0" rpy="0 0 0" />
            <inertia ixx="0.003881243" ixy="0.0" ixz="0.0" iyy="0.000498940" iyz="0.0" izz="0.003879257" />
        </inertial>
    </link>
    <!-- camera depth joints and links -->
    <joint name="camera_depth_joint" type="fixed">
        <origin rpy="0 0 0" xyz="0 0 0" />
        <parent link="camera_link" />
        <child link="camera_depth_frame" />
    </joint>
    <link name="camera_depth_frame" />
    <joint name="camera_depth_optical_joint" type="fixed">
        <origin rpy="-1.5707963267948966 0 -1.5707963267948966" xyz="0 0 0" />
        <parent link="camera_depth_frame" />
        <child link="camera_depth_optical_frame" />
    </joint>
    <link name="camera_depth_optical_frame" />
    <!-- camera left IR joints and links -->
    <joint name="camera_infra1_joint" type="fixed">
        <origin rpy="0 0 0" xyz="0 0.0 0" />
        <parent link="camera_link" />
        <child link="camera_infra1_frame" />
    </joint>
    <link name="camera_infra1_frame" />
    <joint name="camera_infra1_optical_joint" type="fixed">
        <origin rpy="-1.5707963267948966 0 -1.5707963267948966" xyz="0 0 0" />
        <parent link="camera_infra1_frame" />
        <child link="camera_infra1_optical_frame" />
    </joint>
    <link name="camera_infra1_optical_frame" />
    <!-- camera right IR joints and links -->
    <joint name="camera_infra2_joint" type="fixed">
        <origin rpy="0 0 0" xyz="0 -0.055 0" />
        <parent link="camera_link" />
        <child link="camera_infra2_frame" />
    </joint>
    <link name="camera_infra2_frame" />
    <joint name="camera_infra2_optical_joint" type="fixed">
        <origin rpy="-1.5707963267948966 0 -1.5707963267948966" xyz="0 0 0" />
        <parent link="camera_infra2_frame" />
        <child link="camera_infra2_optical_frame" />
    </joint>
    <link name="camera_infra2_optical_frame" />
    <!-- camera color joints and links -->
    <joint name="camera_color_joint" type="fixed">
        <origin rpy="0 0 0" xyz="0 0.015 0" />
        <parent link="camera_link" />
        <child link="camera_color_frame" />
    </joint>
    <link name="camera_color_frame" />
    <joint name="camera_color_optical_joint" type="fixed">
        <origin rpy="-1.5707963267948966 0 -1.5707963267948966" xyz="0 0 0" />
        <parent link="camera_color_frame" />
        <child link="camera_color_optical_frame" />
    </joint>
    <link name="camera_color_optical_frame" />
    <gazebo reference="camera_link">
        <self_collide>0</self_collide>
        <enable_wind>0</enable_wind>
        <kinematic>0</kinematic>
        <gravity>1</gravity>
        <!--<mu>1</mu>-->
        <mu2>1</mu2>
        <fdir1>0 0 0</fdir1>
        <!--<slip1>0</slip1>
			<slip2>0</slip2>-->
        <kp>1e+13</kp>
        <kd>1</kd>
        <!--<max_vel>0.01</max_vel>
			<min_depth>0</min_depth>-->
        <sensor name="cameracolor" type="camera">
            <camera name="camera">
                <horizontal_fov>1.2042771838760873</horizontal_fov>
                <image>
                    <width>640</width>
                    <height>480</height>
                    <format>RGB_INT8</format>
                </image>
                <clip>
                    <near>0.1</near>
                    <far>100</far>
                </clip>
                <noise>
                    <type>gaussian</type>
                    <mean>0.0</mean>
                    <stddev>0.007</stddev>
                </noise>
            </camera>
            <always_on>1</always_on>
            <update_rate>30</update_rate>
            <visualize>0</visualize>
        </sensor>
        <sensor name="cameraired1" type="camera">
            <camera name="camera">
                <horizontal_fov>1.1344640137963142</horizontal_fov>
                <image>
                    <width>640</width>
                    <height>480</height>
                    <format>L_INT8</format>
                </image>
                <clip>
                    <near>0.1</near>
                    <far>100</far>
                </clip>
                <noise>
                    <type>gaussian</type>
                    <mean>0.0</mean>
                    <stddev>0.05</stddev>
                </noise>
            </camera>
            <always_on>1</always_on>
            <update_rate>90</update_rate>
            <visualize>0</visualize>
        </sensor>
        <sensor name="cameraired2" type="camera">
            <camera name="camera">
                <horizontal_fov>1.1344640137963142</horizontal_fov>
                <image>
                    <width>640</width>
                    <height>480</height>
                    <format>L_INT8</format>
                </image>
                <clip>
                    <near>0.1</near>
                    <far>100</far>
                </clip>
                <noise>
                    <type>gaussian</type>
                    <mean>0.0</mean>
                    <stddev>0.05</stddev>
                </noise>
            </camera>
            <always_on>1</always_on>
            <update_rate>90</update_rate>
            <visualize>0</visualize>
        </sensor>
        <sensor name="cameradepth" type="depth">
            <camera name="camera">
                <horizontal_fov>1.1344640137963142</horizontal_fov>
                <image>
                    <width>640</width>
                    <height>480</height>
                </image>
                <clip>
                    <near>0.1</near>
                    <far>100</far>
                </clip>
                <noise>
                    <type>gaussian</type>
                    <mean>0.0</mean>
                    <stddev>0.100</stddev>
                </noise>
            </camera>
            <always_on>1</always_on>
            <update_rate>90</update_rate>
            <visualize>0</visualize>
        </sensor>
    </gazebo>
    <gazebo>
        <plugin filename="librealsense_gazebo_plugin.so" name="camera">
            <prefix>camera</prefix>
            <depthUpdateRate>30.0</depthUpdateRate>
            <colorUpdateRate>30.0</colorUpdateRate>
            <infraredUpdateRate>30.0</infraredUpdateRate>
            <depthTopicName>depth/image_raw</depthTopicName>
            <depthCameraInfoTopicName>depth/camera_info</depthCameraInfoTopicName>
            <colorTopicName>color/image_raw</colorTopicName>
            <colorCameraInfoTopicName>color/camera_info</colorCameraInfoTopicName>
            <infrared1TopicName>infra1/image_raw</infrared1TopicName>
            <infrared1CameraInfoTopicName>infra1/camera_info</infrared1CameraInfoTopicName>
            <infrared2TopicName>infra2/image_raw</infrared2TopicName>
            <infrared2CameraInfoTopicName>infra2/camera_info</infrared2CameraInfoTopicName>
            <colorOpticalframeName>camera_color_optical_frame</colorOpticalframeName>
            <depthOpticalframeName>camera_depth_optical_frame</depthOpticalframeName>
            <infrared1OpticalframeName>camera_left_ir_optical_frame</infrared1OpticalframeName>
            <infrared2OpticalframeName>camera_right_ir_optical_frame</infrared2OpticalframeName>
            <rangeMinDepth>0.2</rangeMinDepth>
            <rangeMaxDepth>10.0</rangeMaxDepth>
            <pointCloud>True</pointCloud>
            <pointCloudTopicName>depth/color/points</pointCloudTopicName>
            <pointCloudCutoff>0.25</pointCloudCutoff>
            <pointCloudCutoffMax>9.0</pointCloudCutoffMax>
        </plugin>
    </gazebo>
</robot>
